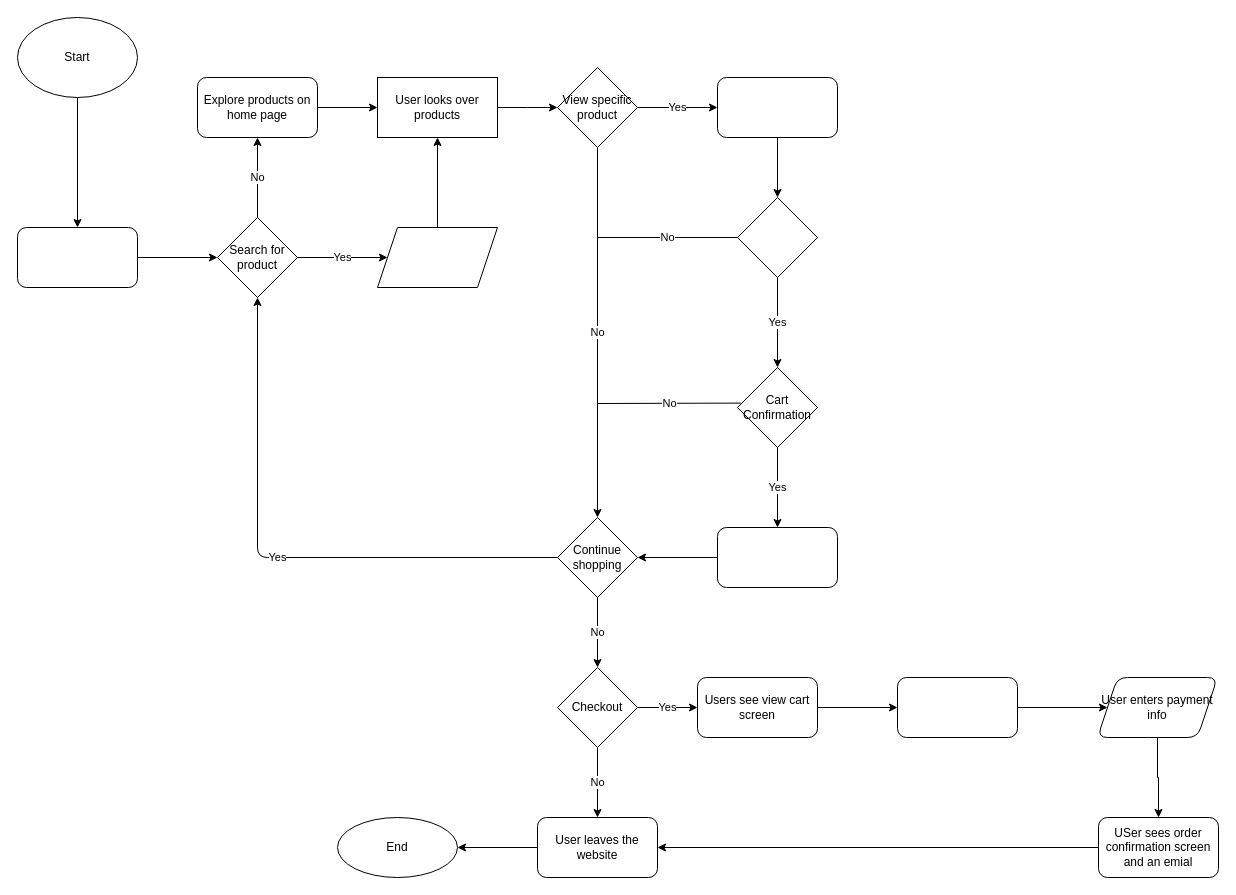
This 1236x895 diagram has some shape labels left out. Here are the shapes that lost their labels. From the top down, the box of each, then its label:
(716, 76, 838, 138): Open product webpage
(16, 226, 138, 288): User enters website
(376, 226, 498, 288): Provides input to search for product
(736, 196, 818, 278): Add to cart
(716, 526, 838, 588): Item added to cart
(896, 676, 1018, 738): User sees view payment screen
